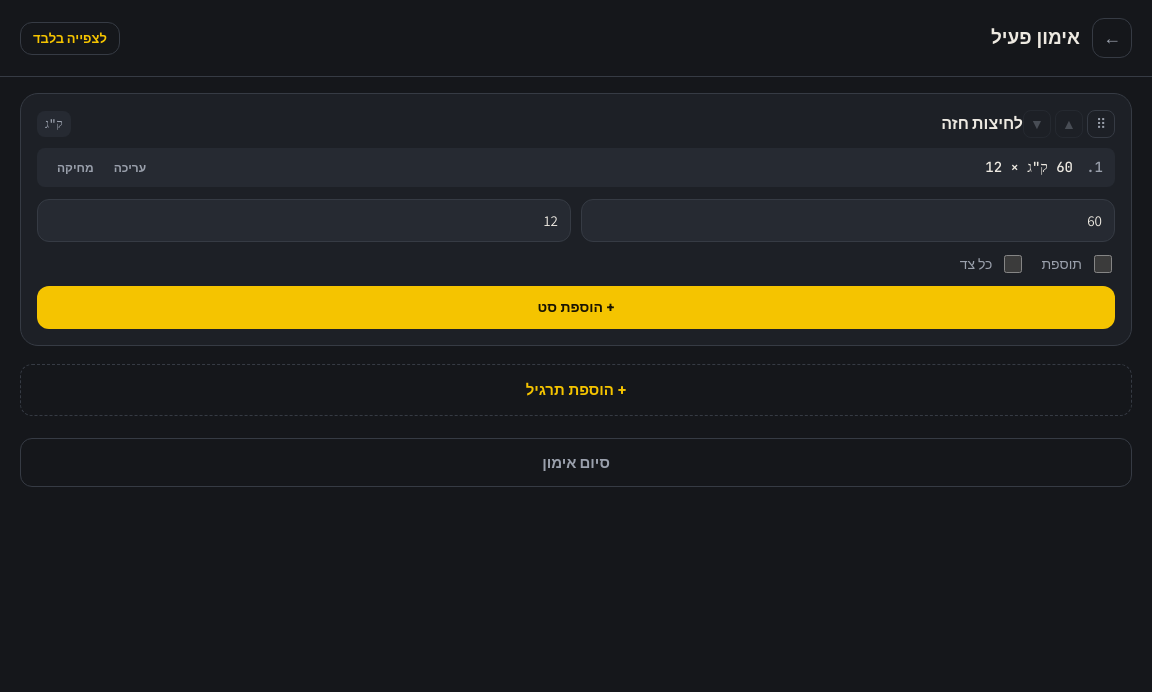
WorkoutPage › adds another exercise to the workout, only offering ones not already added
Expected: the text "60 ק\"ג × 12" is shown, top-left (985, 158), bottom-right (1073, 176)
Step 1. Click the button "+ הוספת תרגיל" → (576,390), box top-left (20, 364), bottom-right (1132, 416)
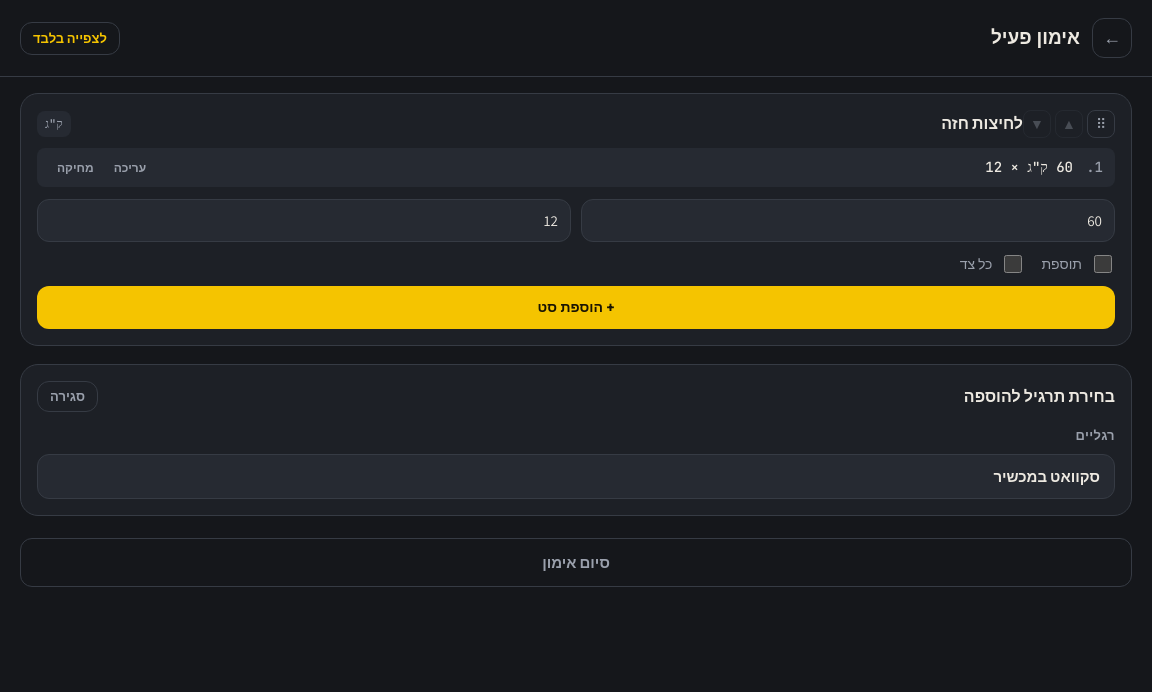
Step 2. Click the button "סקוואט במכשיר" → (1047,476), box top-left (37, 454), bottom-right (1115, 498)
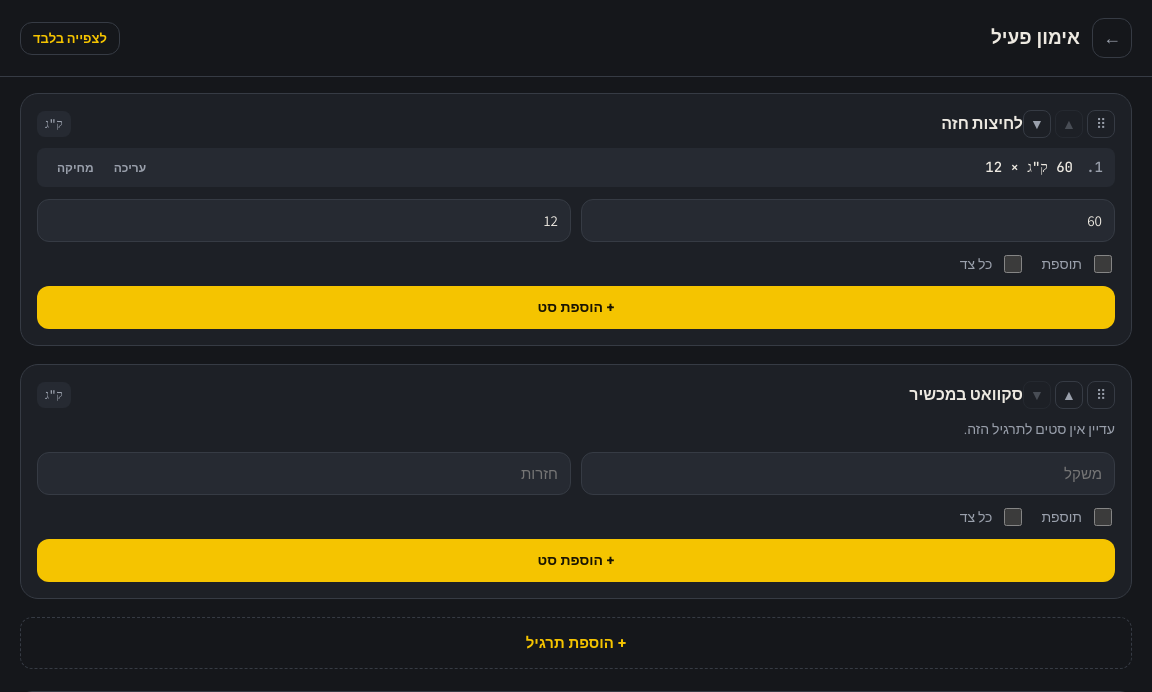
Now the text "עדיין אין סטים לתרגיל הזה." is shown, box top-left (964, 420), bottom-right (1115, 438)
